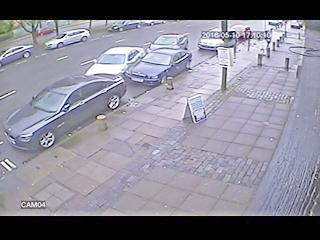Car: (10, 79, 117, 142), (129, 51, 188, 84), (94, 47, 138, 78), (49, 30, 88, 49), (153, 35, 187, 52), (203, 27, 228, 50), (1, 47, 32, 62), (109, 20, 139, 31), (233, 24, 254, 38)
Minor Accident: (92, 45, 191, 85)
